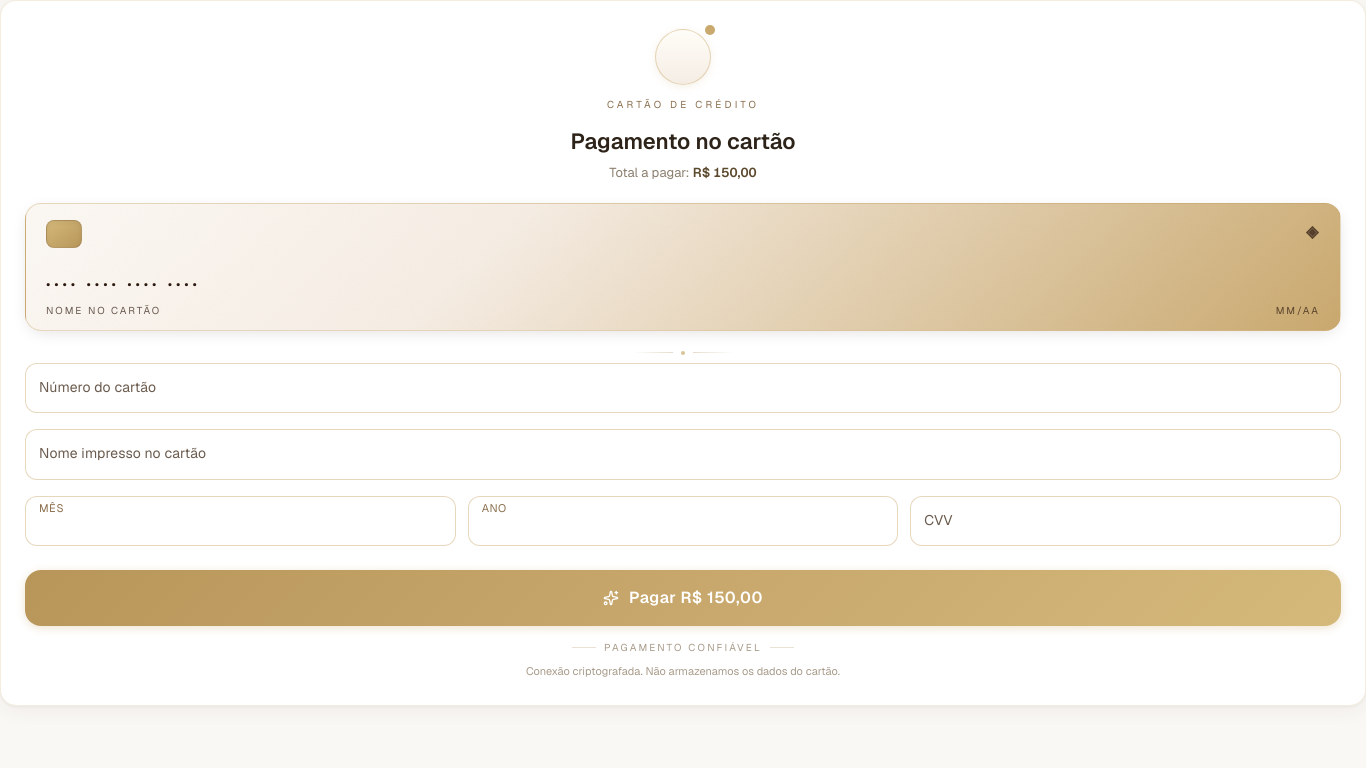
Test case: PublicCardCharge › shows local validation errors when fields are empty
Click the button "Pagar R$ 150,00". click: (683,598)
box: [25, 570, 1341, 626]
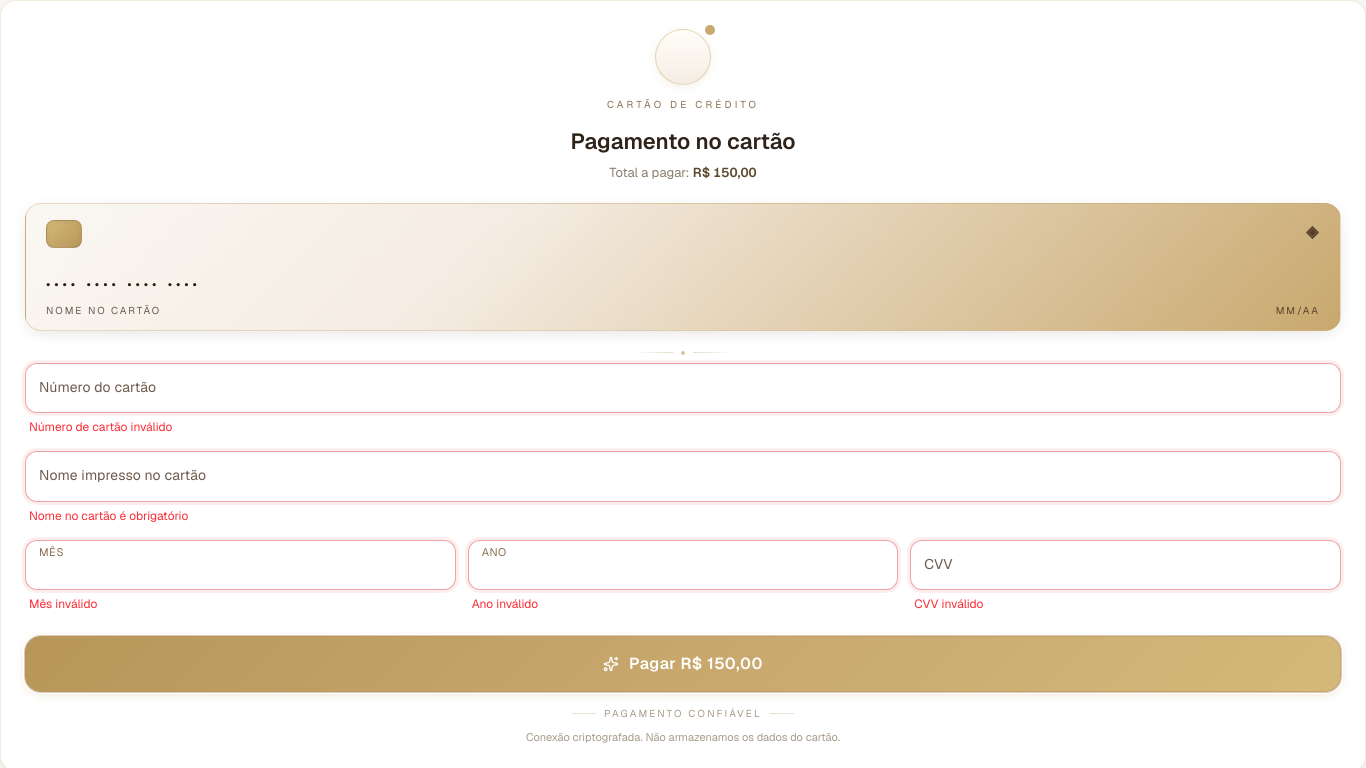
Check: the text "Número de cartão inválido" is shown, box [29, 419, 172, 435]
